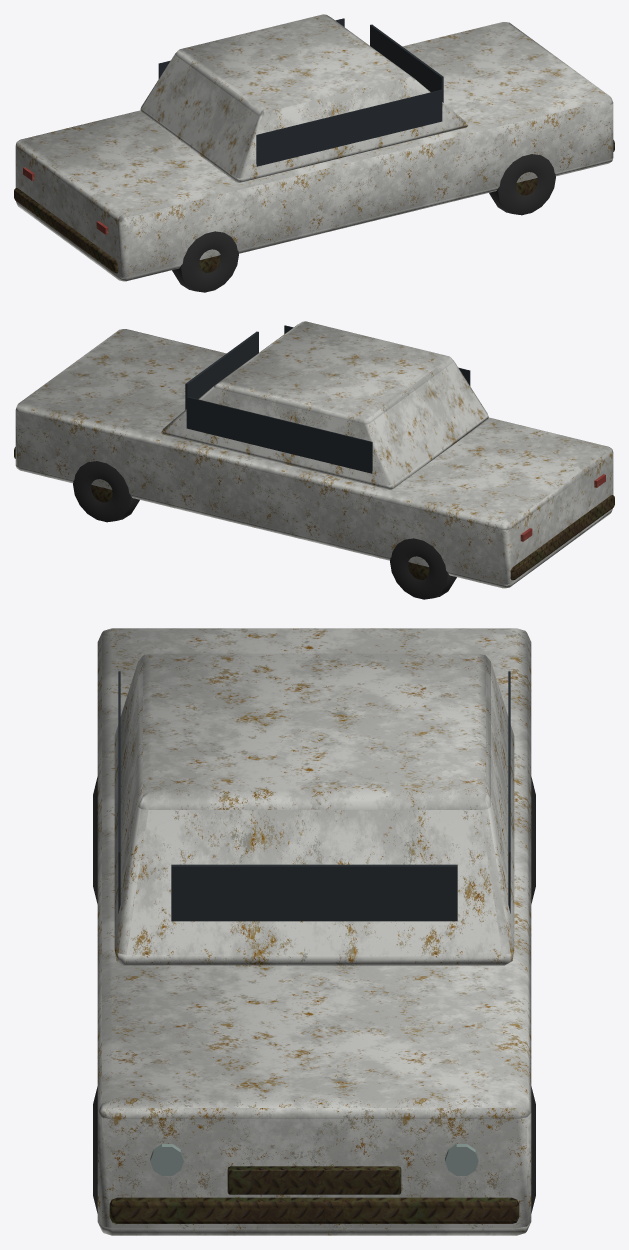
Rendered from veh_sedan_long.gltf.
3 renders of one model, top to bottom at view 1: azimuth 30°, elevation 25°; view 2: azimuth 150°, elevation 25°; view 3: azimuth 270°, elevation 25°, orthographic. The views are drawn at different scales.
Parts seen in each view (by area): view 1: box, box.002, box.003, torus.002, torus, box.005, box.001; view 2: box, box.002, box.004, torus.003, torus.001, box.005, box.001; view 3: box, box.002, box.005, box.001, box.006, cyl.004, cyl.005.
Part boxes in pixels (x1,y1,x2,y2): box: (15, 22, 613, 281); box.002: (140, 14, 467, 182); box.003: (256, 89, 442, 166); torus.002: (172, 231, 238, 292); torus: (489, 154, 555, 215); box.005: (370, 24, 443, 102); box.001: (14, 140, 614, 273); box: (15, 329, 613, 588); box.002: (161, 321, 488, 489); box.004: (186, 396, 372, 473); torus.003: (390, 538, 456, 599); torus.001: (73, 461, 139, 522); box.005: (185, 331, 258, 409); box.001: (14, 447, 614, 580); box: (97, 628, 531, 1235); box.002: (114, 653, 514, 965); box.005: (171, 864, 457, 921); box.001: (109, 1197, 519, 1223); box.006: (227, 1166, 401, 1194); cyl.004: (150, 1144, 183, 1175); cyl.005: (445, 1144, 478, 1175).
Size of the model in its own units: 4.82 by 1.46 by 1.84.
6 materials, 3 textured.
